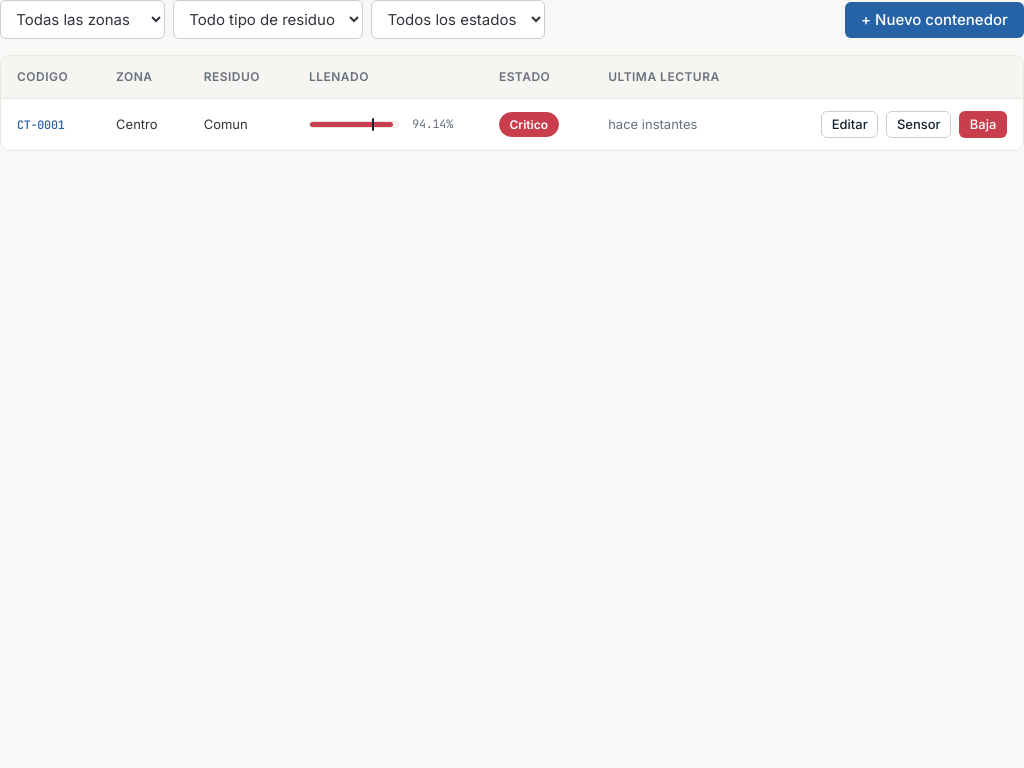
Test: ABM de contenedores › en la edicion el codigo queda bloqueado porque el backend no lo acepta
Step 1. Click the button "Editar" → (850, 125), box [821, 111, 878, 138]
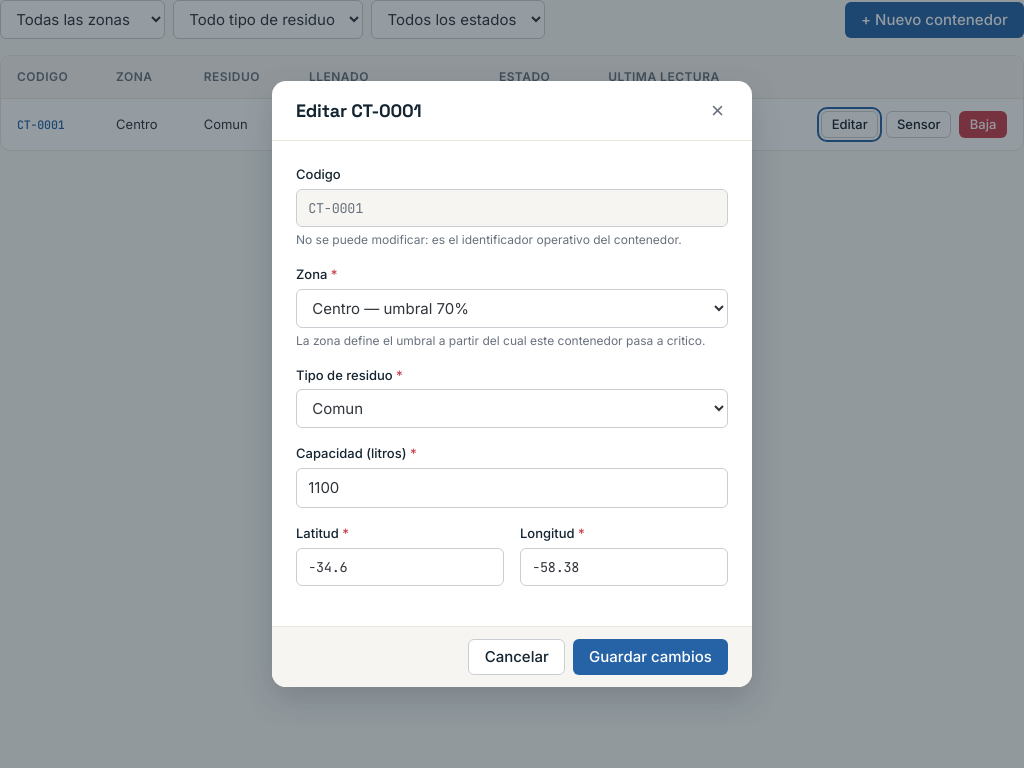
Check: the field labelled "Codigo" is disabled, box [296, 189, 728, 227]
